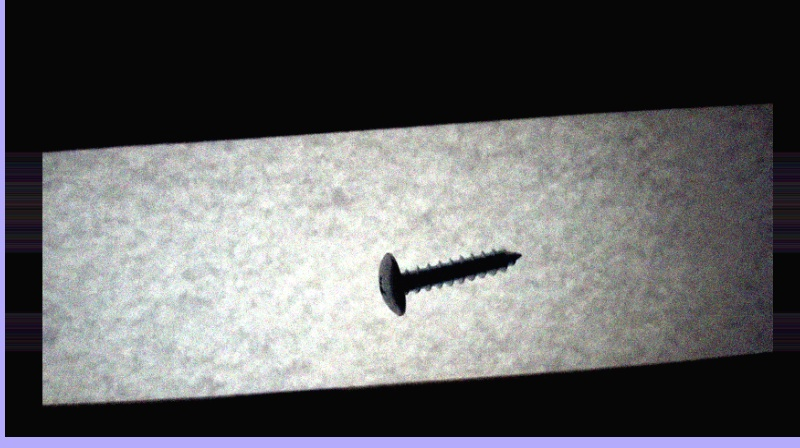S003: (373, 242, 523, 318)
